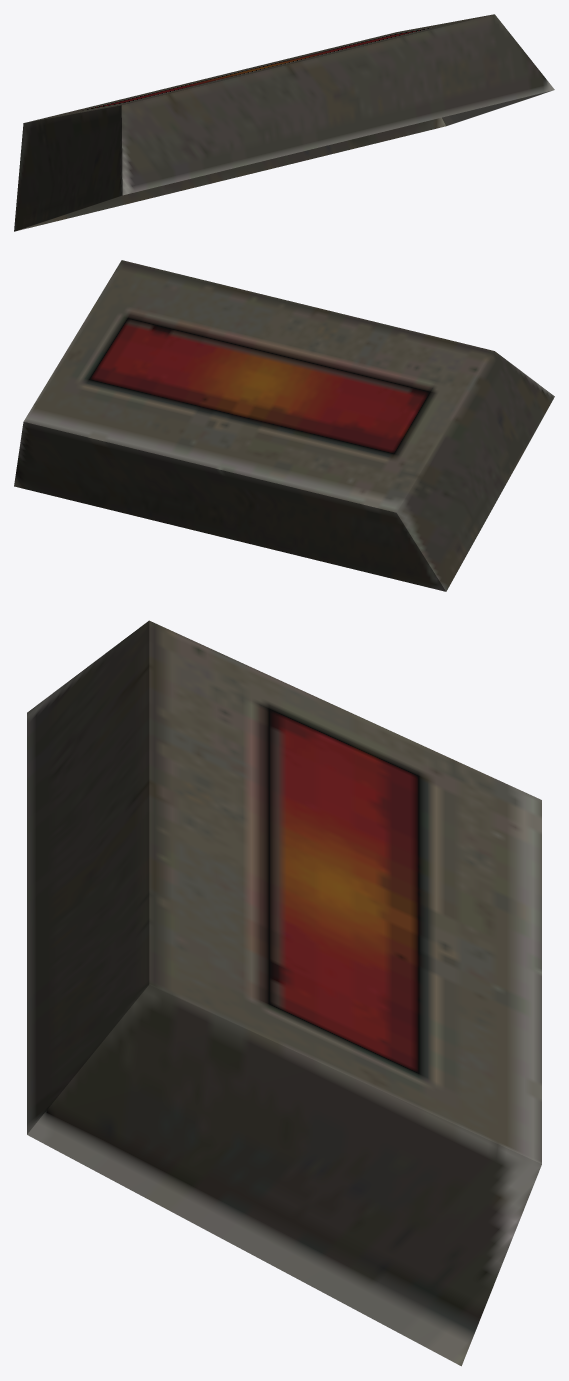
Rendered from power_generator_flesher_light_small.DAE.
3 renders of one model, top to bottom at view 1: azimuth 30°, elevation 25°; view 2: azimuth 150°, elevation 25°; view 3: azimuth 270°, elevation 25°, orthographic. The views are drawn at different scales.
Parts seen in each view (by area): view 1: power_generator_flesher_light_small; view 2: power_generator_flesher_light_small; view 3: power_generator_flesher_light_small.
Boxes of the visible parts, x1,y1,x2,y2 form: power_generator_flesher_light_small: (14,14,554,231); power_generator_flesher_light_small: (14,260,554,591); power_generator_flesher_light_small: (27,620,541,1366).
Size of the model in its own units: 11.37 by 5.87 by 4.43.
